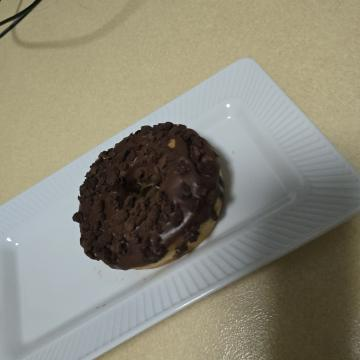doughnut: (103, 122, 282, 298)
